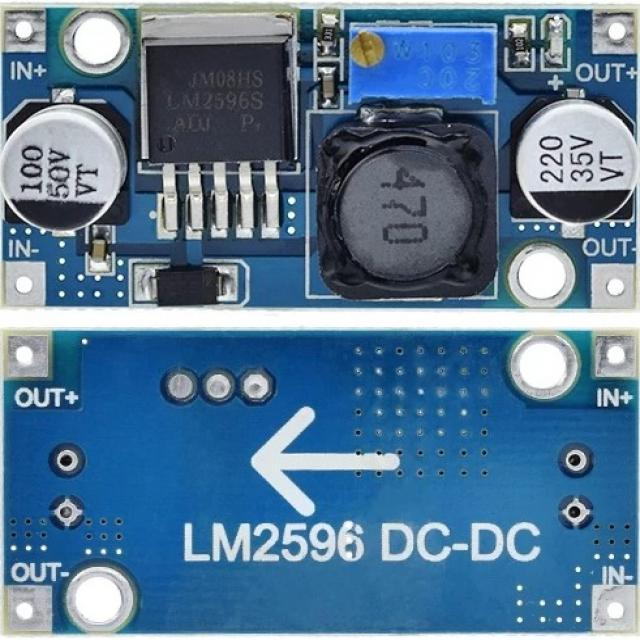IC: (140, 26, 305, 217)
LED: (545, 24, 565, 62)
capacitor 1V5: (0, 92, 135, 235), (516, 88, 640, 234), (318, 66, 338, 105), (88, 239, 109, 266)
diode -D1-: (137, 264, 238, 309)
inductor F1: (318, 116, 500, 300)
potentiometer POT1: (349, 22, 500, 111)
resistor IR1: (513, 22, 533, 68), (320, 12, 336, 54)
